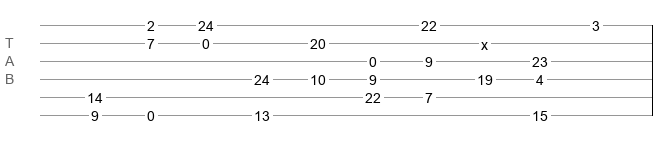0: (147, 108, 155, 118), (202, 36, 210, 46), (369, 54, 377, 64)
10: (310, 72, 326, 82)
13: (254, 108, 270, 118)
14: (87, 90, 103, 100)
15: (532, 108, 548, 118)
19: (477, 72, 493, 82)
2: (147, 18, 155, 28)
20: (310, 36, 326, 46)
22: (365, 90, 381, 100), (421, 18, 437, 28)
23: (532, 54, 548, 64)
24: (198, 18, 214, 28), (254, 72, 270, 82)
3: (592, 18, 600, 28)
4: (536, 72, 544, 82)
7: (147, 36, 155, 46), (425, 90, 433, 100)
9: (91, 108, 99, 118), (369, 72, 377, 82), (425, 54, 433, 64)
x: (481, 37, 488, 45)
